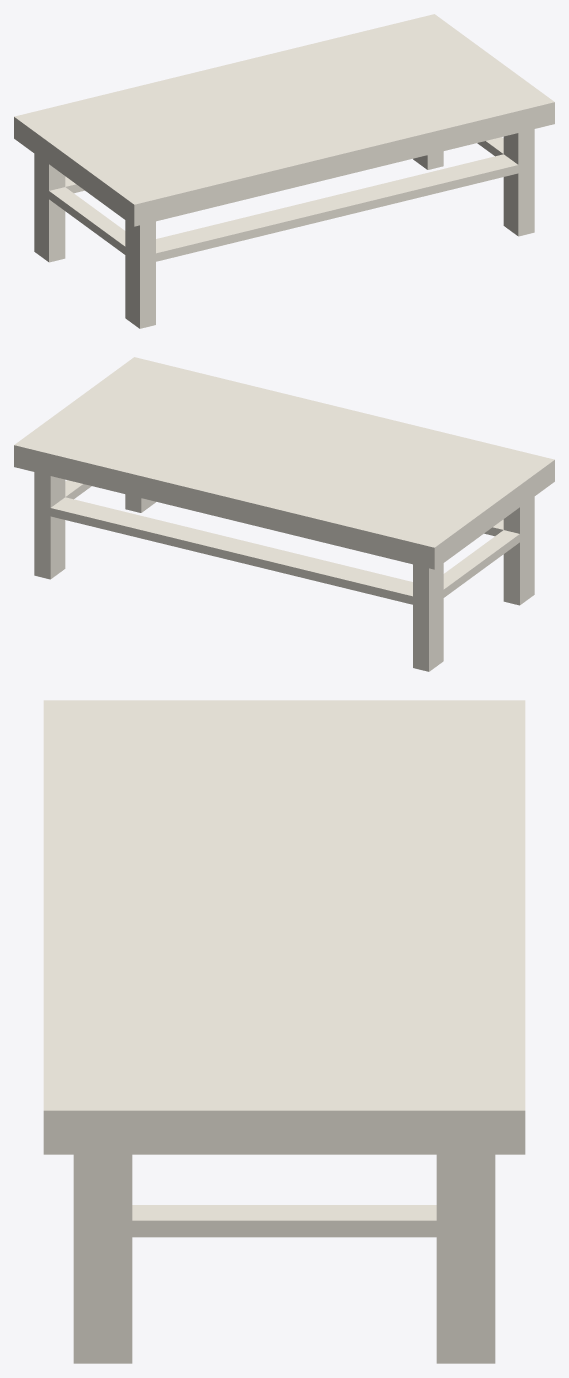
File: coffee_table_01.FBX
3 renders of one model, top to bottom at view 1: azimuth 30°, elevation 25°; view 2: azimuth 150°, elevation 25°; view 3: azimuth 270°, elevation 25°, orthographic. The views are drawn at different scales.
Parts seen in each view (by area): view 1: Box041; view 2: Box041; view 3: Box041.
Boxes of the visible parts, x1,y1,x2,y2 form: Box041: (14, 14, 554, 328); Box041: (14, 357, 554, 671); Box041: (43, 700, 525, 1363).
Bounding box in the file's own units: 193 × 58.17 × 95.54.
